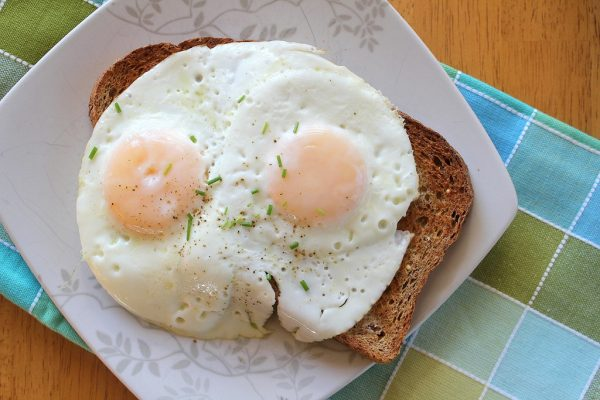fried_eggs: (241, 50, 391, 297), (88, 77, 242, 306)
